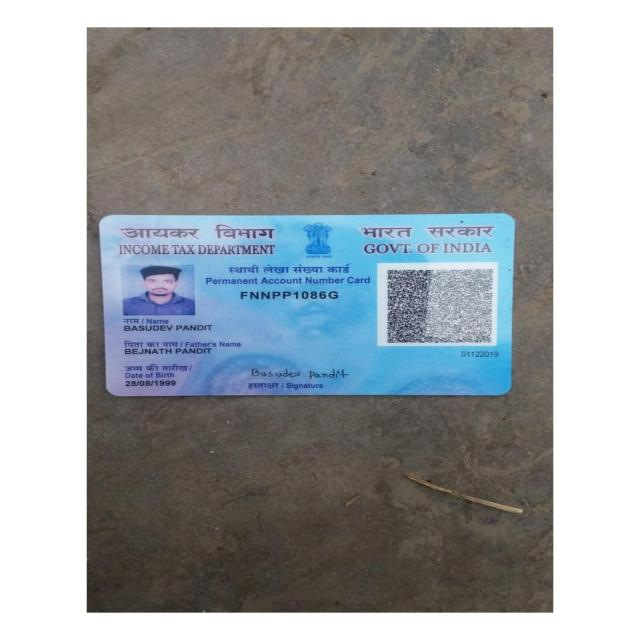pan_card: (99, 213, 514, 398)
